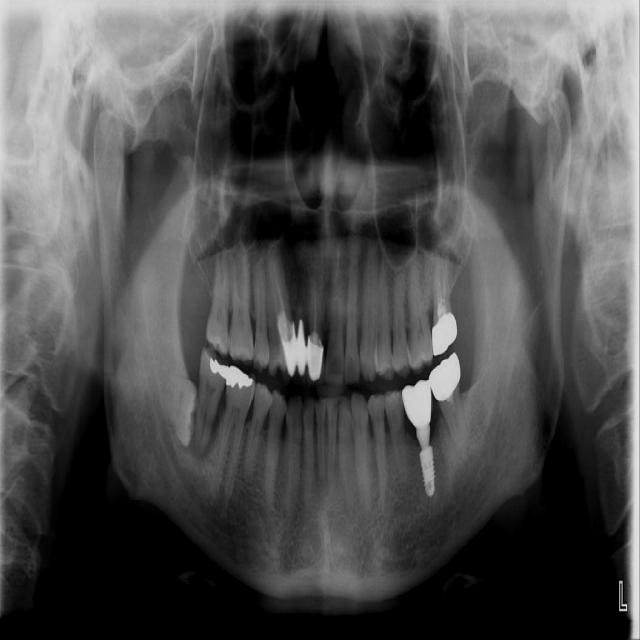Crown: (428, 351, 460, 402), (402, 378, 433, 430), (432, 313, 458, 356)
Filling: (226, 367, 255, 387), (208, 359, 230, 378)
Implant: (416, 425, 435, 496)
Periapical lesion: (189, 387, 226, 462), (316, 464, 327, 487)
Root Canal Treatment: (274, 268, 289, 336), (438, 278, 444, 317), (444, 260, 448, 312), (314, 302, 316, 334)
impacted tooth: (153, 366, 196, 444)
